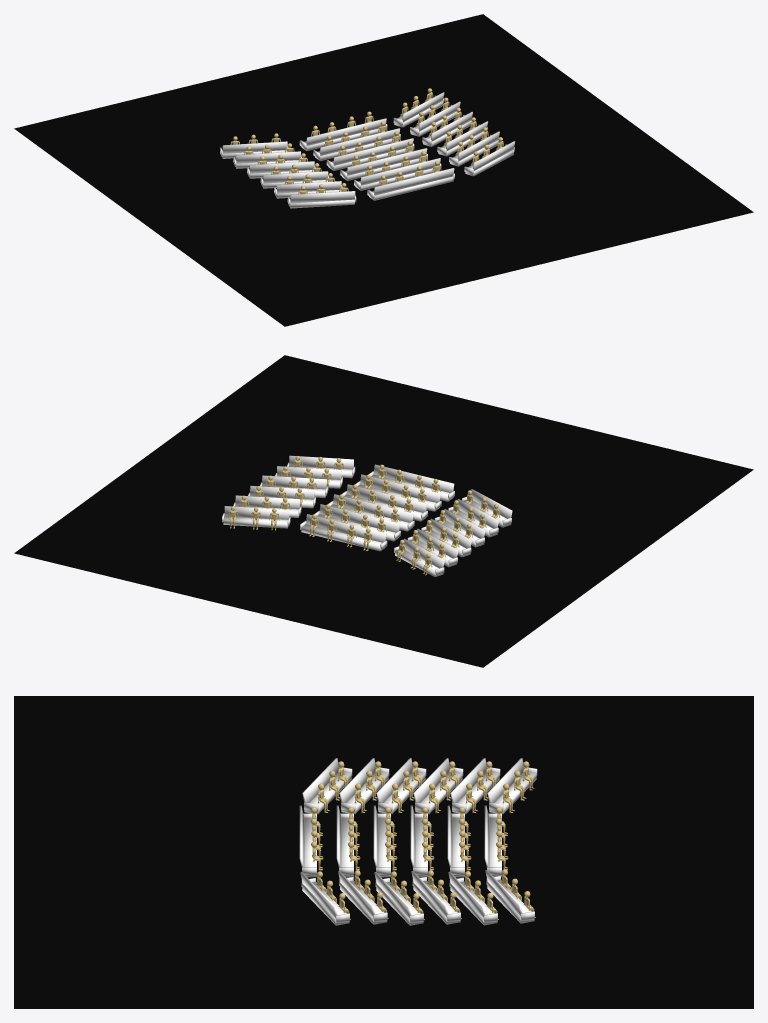
Rendered from floor.obj.
The picture shows the model from 3 angles, top to bottom: view 1: azimuth 30°, elevation 25°; view 2: azimuth 150°, elevation 25°; view 3: azimuth 270°, elevation 25°; orthographic projection. The views are drawn at different scales.
Visible parts, largest first — view 1: 立方体.018; view 2: 立方体.018; view 3: 立方体.018.
Boxes of the visible parts, x1,y1,x2,y2 form: 立方体.018: [14, 14, 753, 326]; 立方体.018: [14, 355, 753, 667]; 立方体.018: [14, 696, 753, 1008].
Bounding box in the file's own units: 40 × 1.76 × 40.
Materials: 5 (5 with a texture image).
